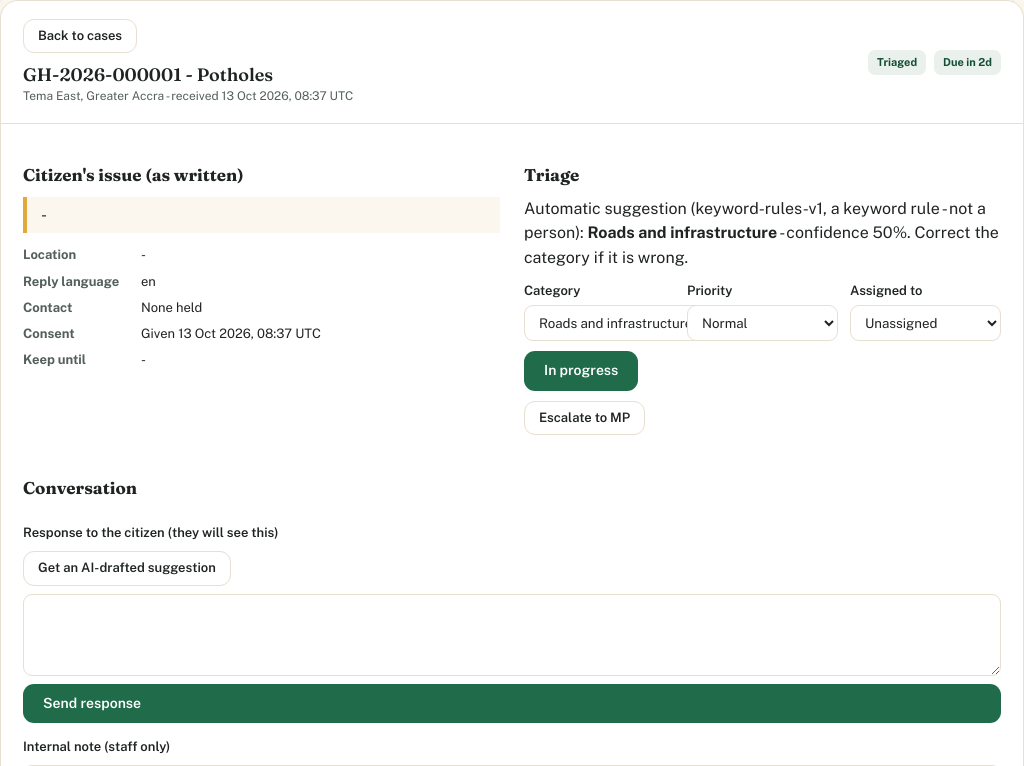
AI-drafted case response › is honest when no AI provider is configured, and never fabricates a draft
Click the button "Get an AI-drafted suggestion" at (127, 568), box [23,551,231,586]
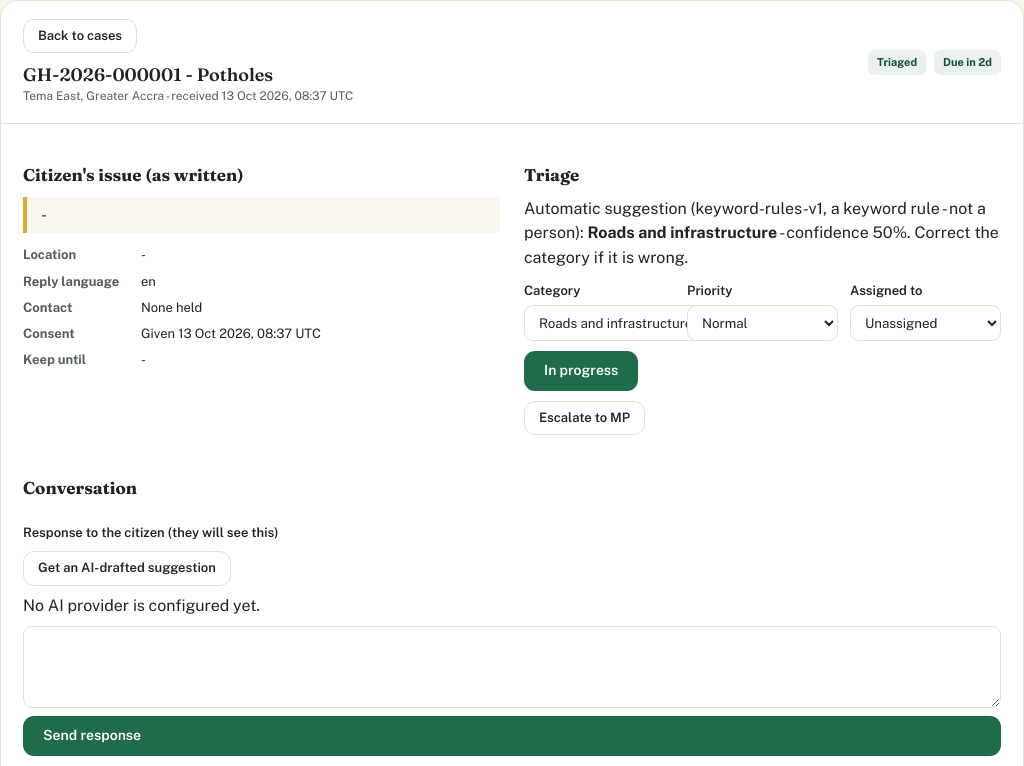
expect the text "No AI provider is configured yet." is shown: met, box [23,596,260,615]
